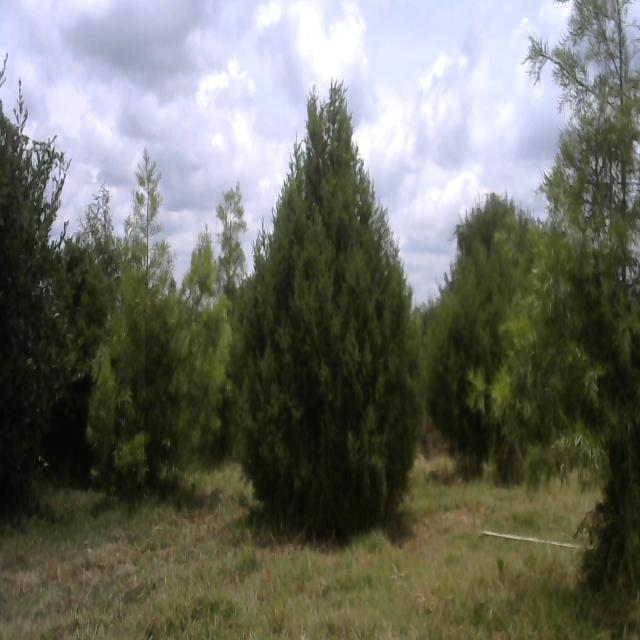Podocarpus falcatus: (486, 0, 640, 582), (88, 142, 231, 498)
Salix alba: (0, 71, 69, 497)
cedrus: (236, 76, 426, 532), (428, 260, 494, 480)
other: (450, 189, 570, 376), (209, 176, 251, 302)
